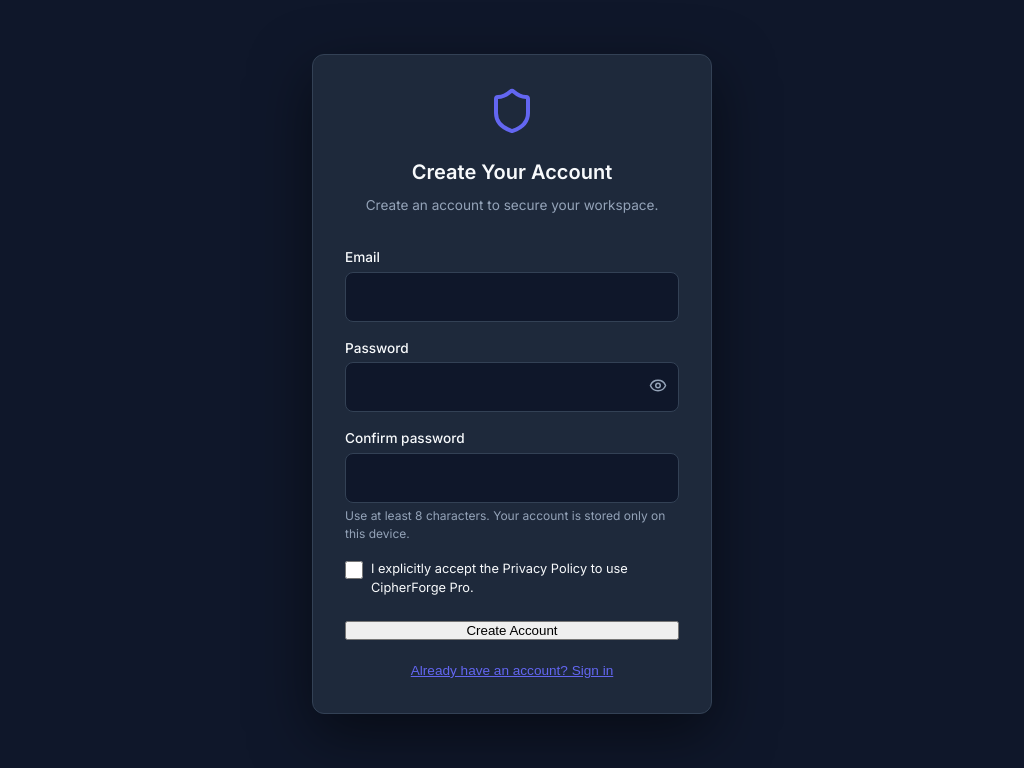
Scenario: LoginScreen account creation › rejects a malformed email address
The image size is (1024, 768).
Type "not-an-email" into the field labelled "Email" at (512, 297), box x1=345 y1=272 x2=679 y2=322
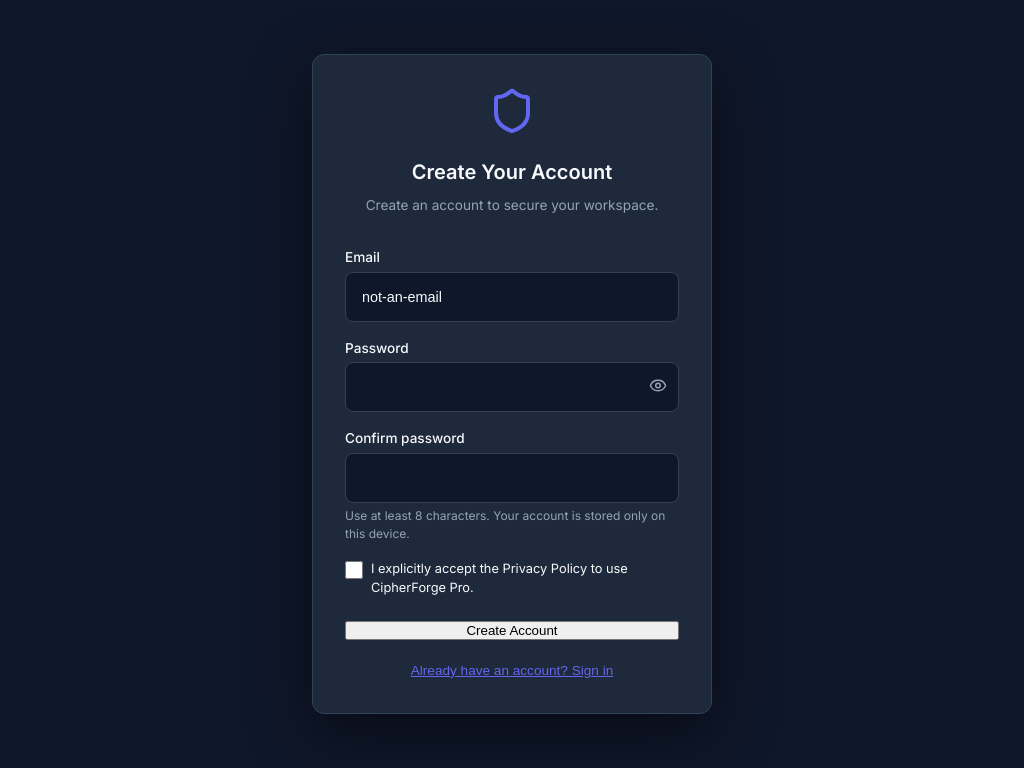
Type "correct-horse-battery-staple" into the password field labelled "Password" at (512, 387), box x1=345 y1=362 x2=679 y2=412
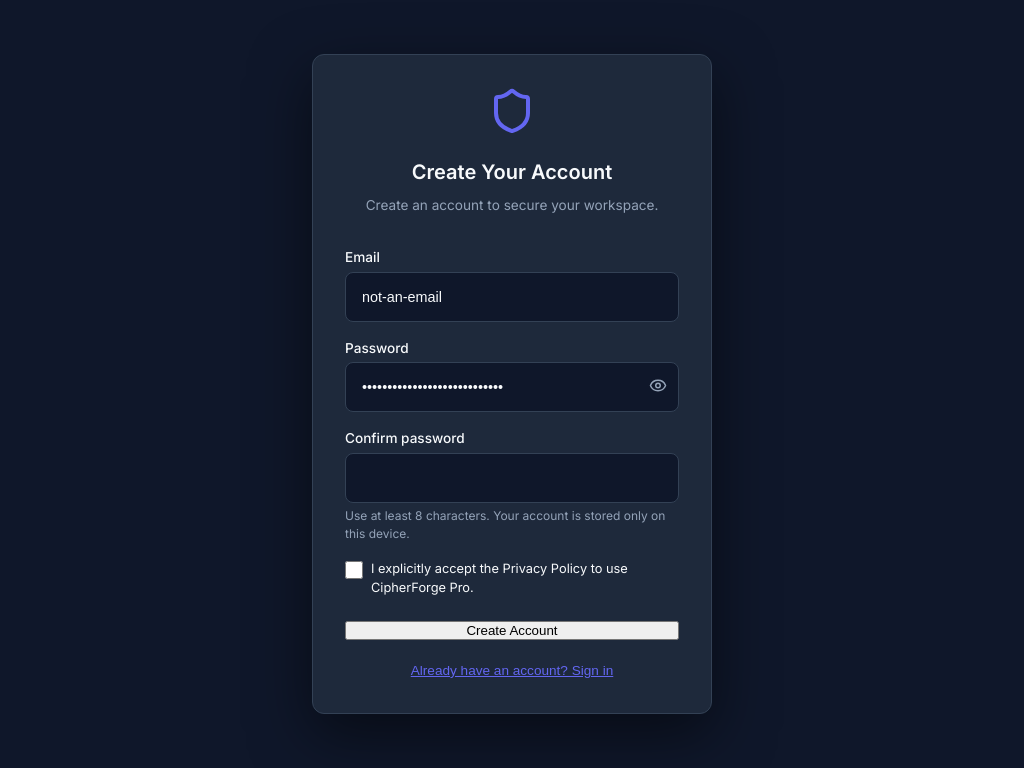
Type "correct-horse-battery-staple" into the password field labelled "Confirm password" at (512, 478), box x1=345 y1=453 x2=679 y2=503
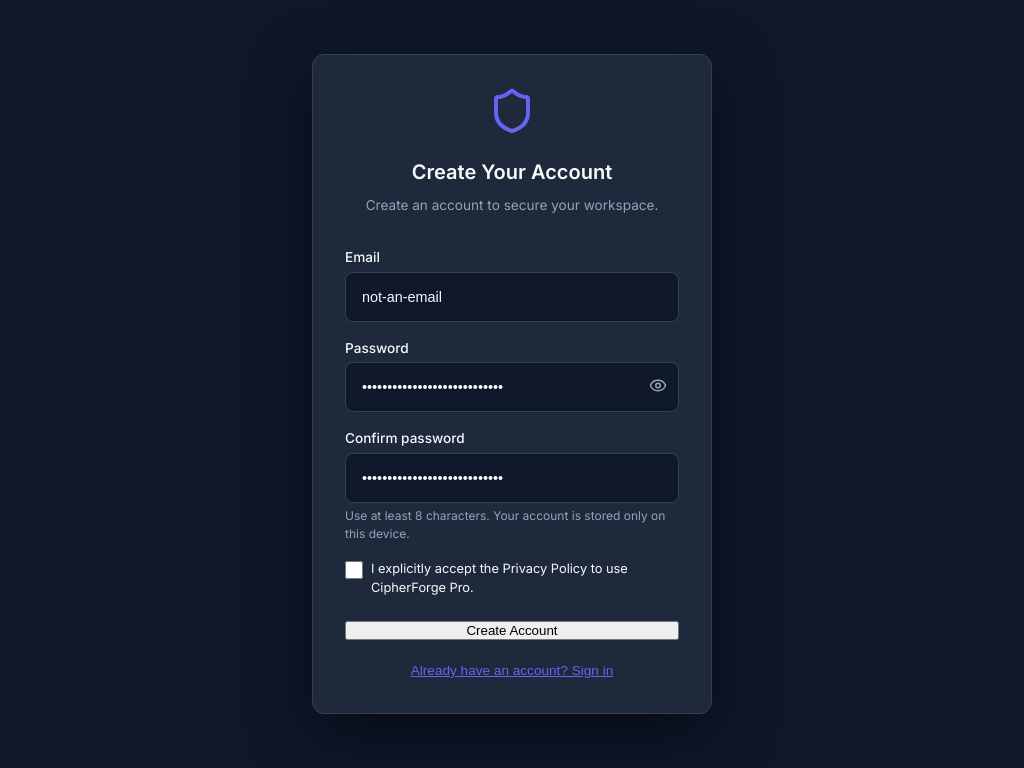
Click the checkbox labelled "I explicitly accept the Privacy Policy to use CipherForge Pro." at (354, 570), box x1=345 y1=561 x2=363 y2=579
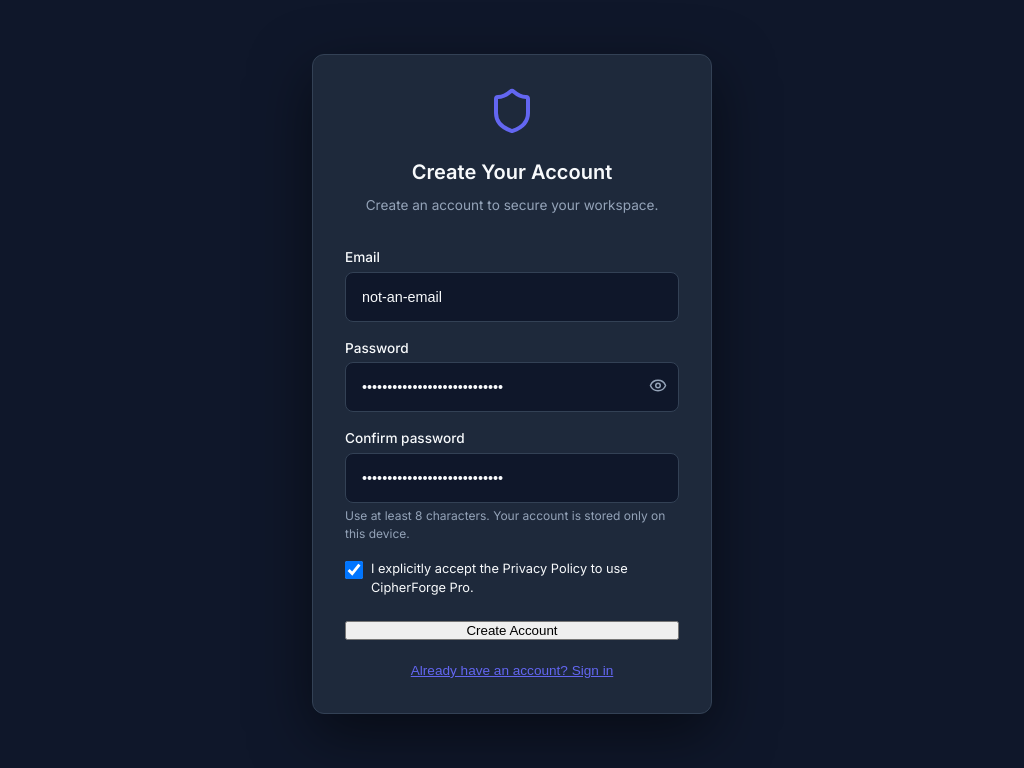
Submit the form labelled "Email", box x1=345 y1=247 x2=679 y2=681
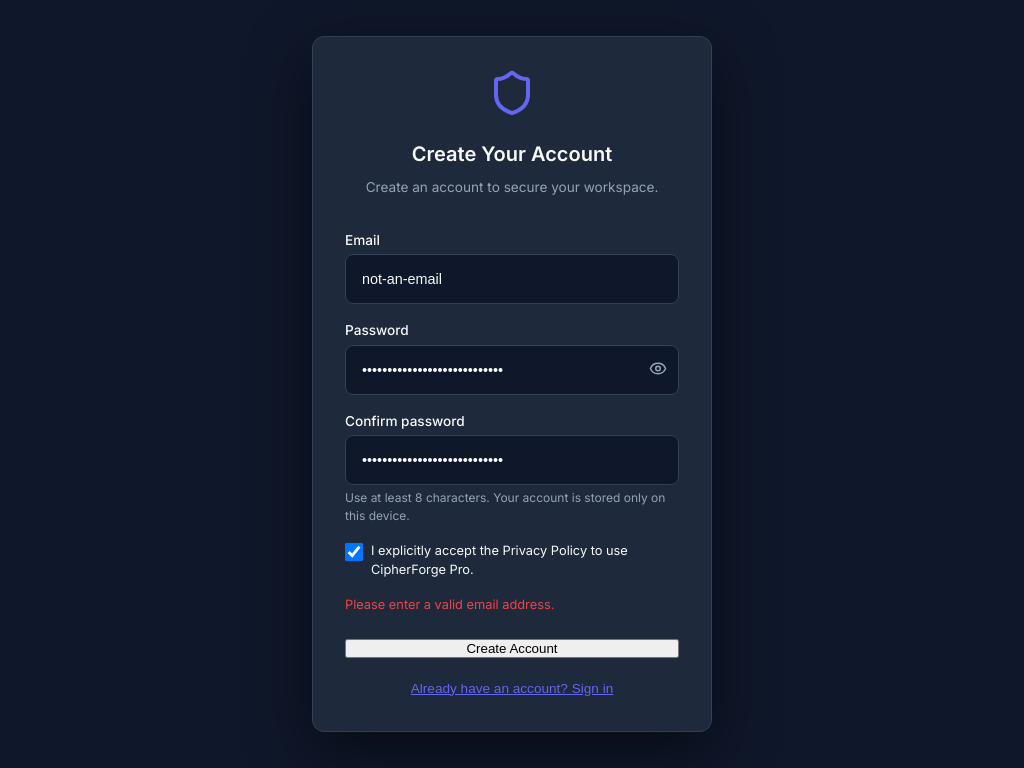
Expected: the message reads "Please enter a valid email address.", x1=345 y1=597 x2=554 y2=612
